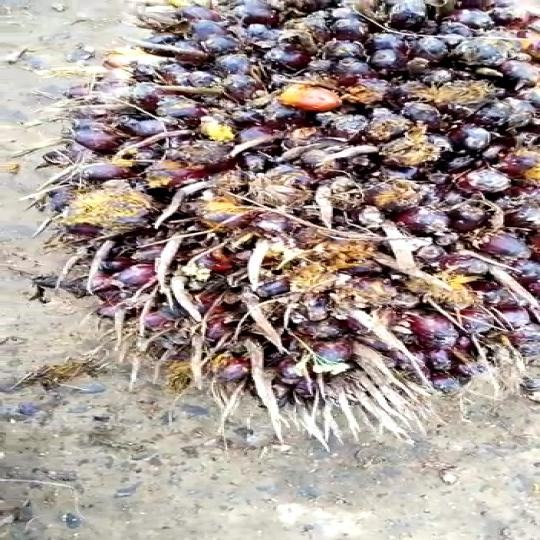mentah: (52, 0, 539, 423)
